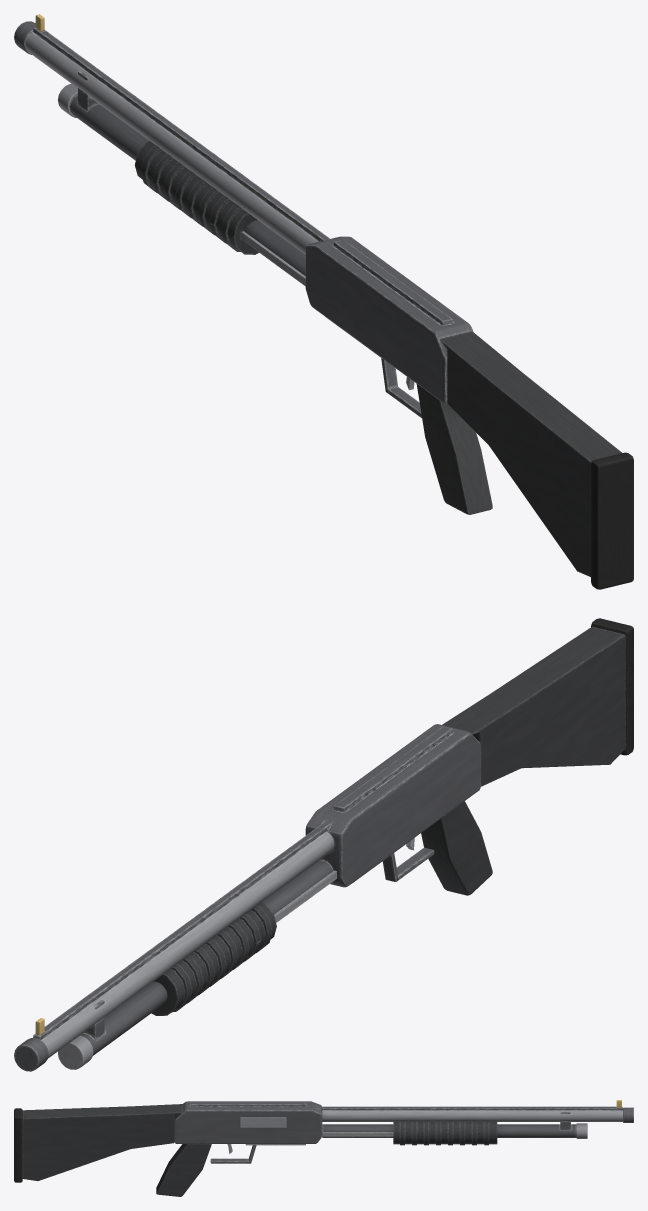
File: shotgun_m90.glb
3 renders of one model, top to bottom at view 1: azimuth 30°, elevation 25°; view 2: azimuth 150°, elevation 25°; view 3: azimuth 270°, elevation 25°, orthographic. The views are drawn at different scales.
Visible parts, largest first — view 1: body, action; view 2: body, action; view 3: body, action.
Part boxes in pixels (bbox=[...]): body: bbox=[14, 14, 633, 589]; action: bbox=[135, 141, 305, 286]; body: bbox=[14, 618, 633, 1071]; action: bbox=[151, 870, 336, 1015]; body: bbox=[14, 1100, 633, 1196]; action: bbox=[240, 1117, 497, 1145].
Size of the model in its own units: 0.0524 by 0.1895 by 1.13.
1 material, 1 textured.
